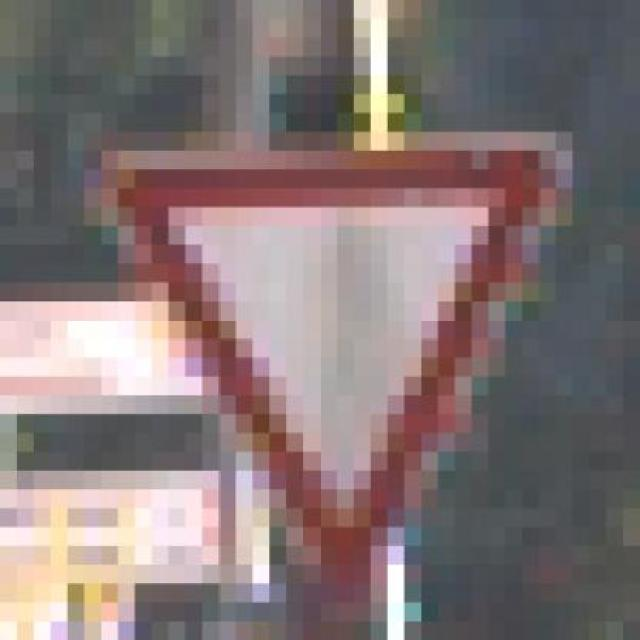Give Way: (67, 113, 624, 622)
